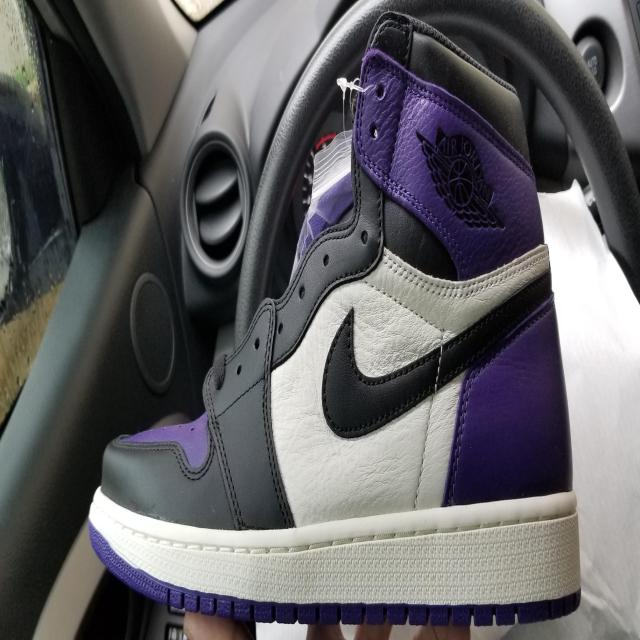shoe: (45, 111, 640, 640)
